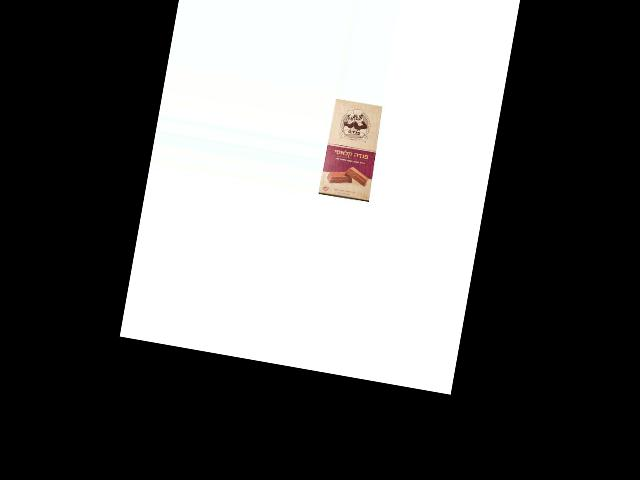chocolate: (319, 98, 386, 203)
